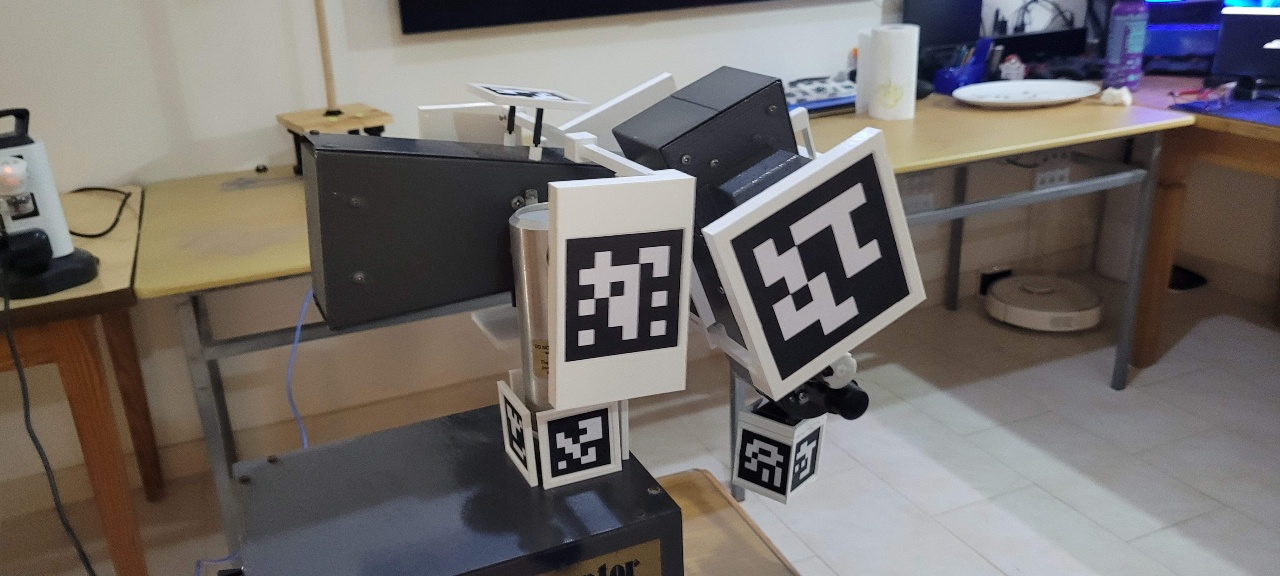Robot: (298, 64, 930, 506)
